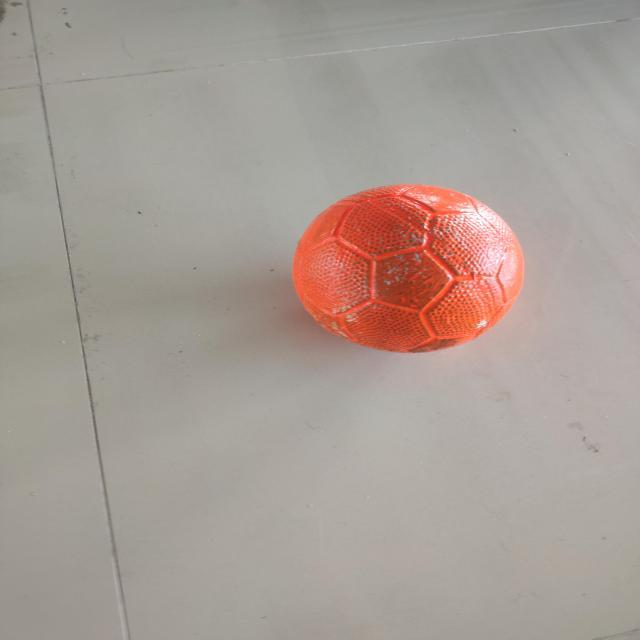bola: (271, 164, 560, 368)
